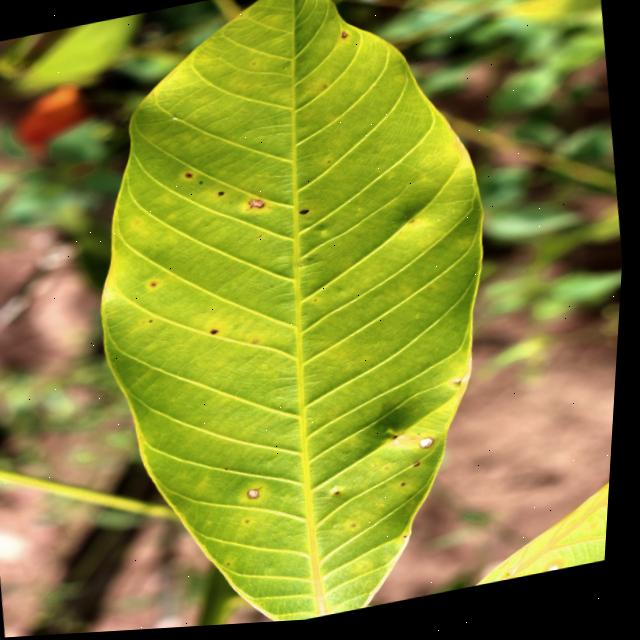Colletotrichum: (251, 492, 265, 504), (424, 444, 439, 455), (301, 214, 311, 219), (215, 332, 221, 337), (220, 194, 226, 199), (188, 176, 194, 181)
